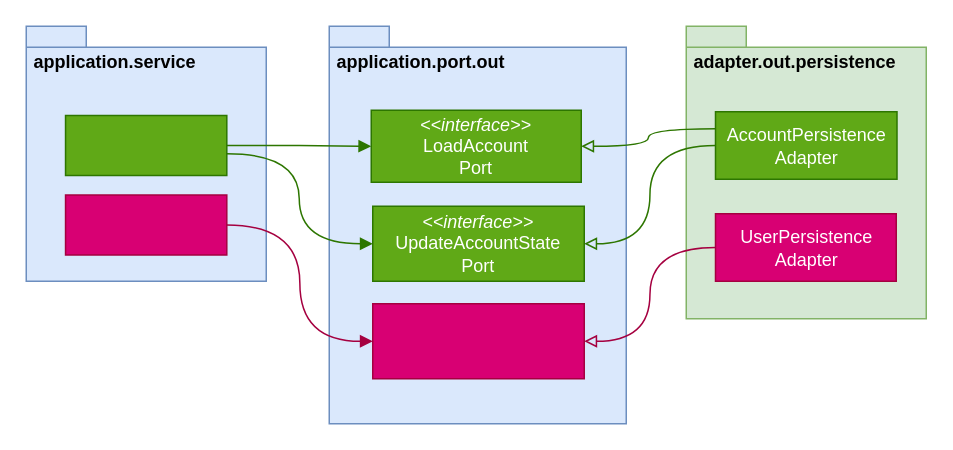
The diagram is 953 pixels wide and 450 high, and some of its shapes have lost their labels. The shapes that lost their labels are listed below. From the top down, each one's box as (x1, y1, x2, y2) in pixels, then its label:
(64, 114, 227, 176): SendMoney Service
(64, 194, 227, 255): RegisterAccount Service
(371, 302, 584, 379): <<interface>> CreateUser Port
